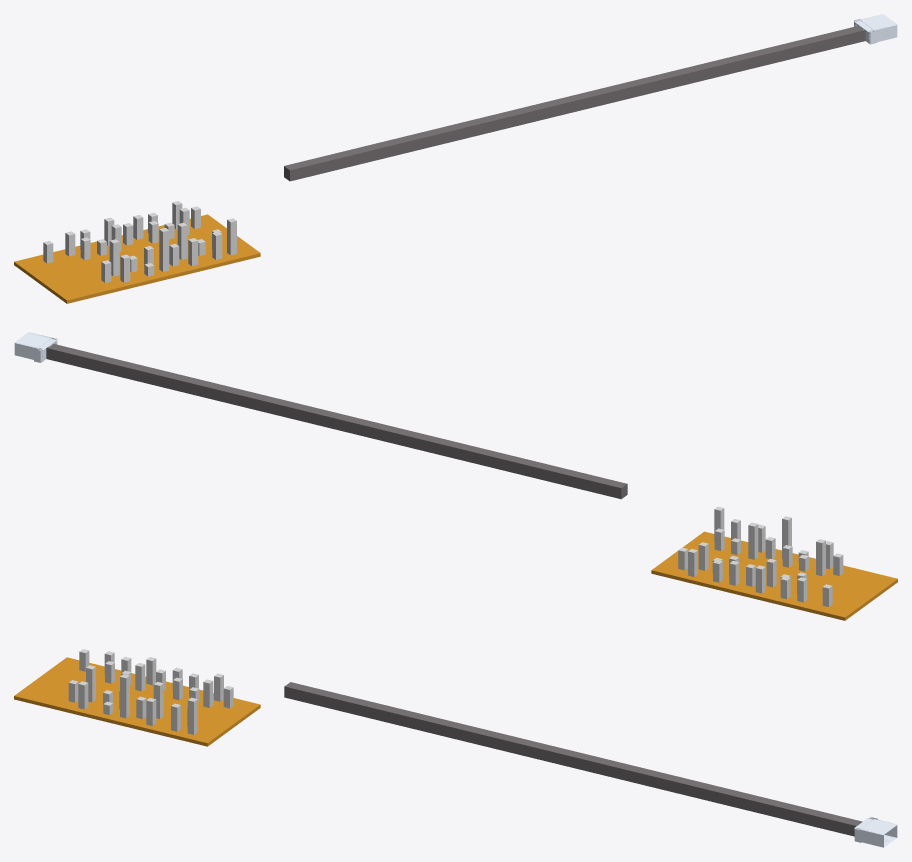
File: coin.glb
The picture shows the model from 3 angles, top to bottom: view 1: azimuth 30°, elevation 25°; view 2: azimuth 150°, elevation 25°; view 3: azimuth 330°, elevation 25°; orthographic projection.
Parts seen in each view (by area): view 1: Cube.009, Cube.038; view 2: Cube.009, Cube.038; view 3: Cube.009, Cube.038, Cube.057.
Part boxes in pixels (x1=…): Cube.009: x1=284, y1=25, x2=865, y2=181; Cube.038: x1=14, y1=214, x2=260, y2=303; Cube.009: x1=46, y1=343, x2=627, y2=499; Cube.038: x1=651, y1=531, x2=897, y2=620; Cube.009: x1=284, y1=682, x2=862, y2=836; Cube.038: x1=14, y1=657, x2=260, y2=746; Cube.057: x1=120, y1=674, x2=129, y2=718.
Bounding box in the file's own units: 1178 × 76.34 × 127.
